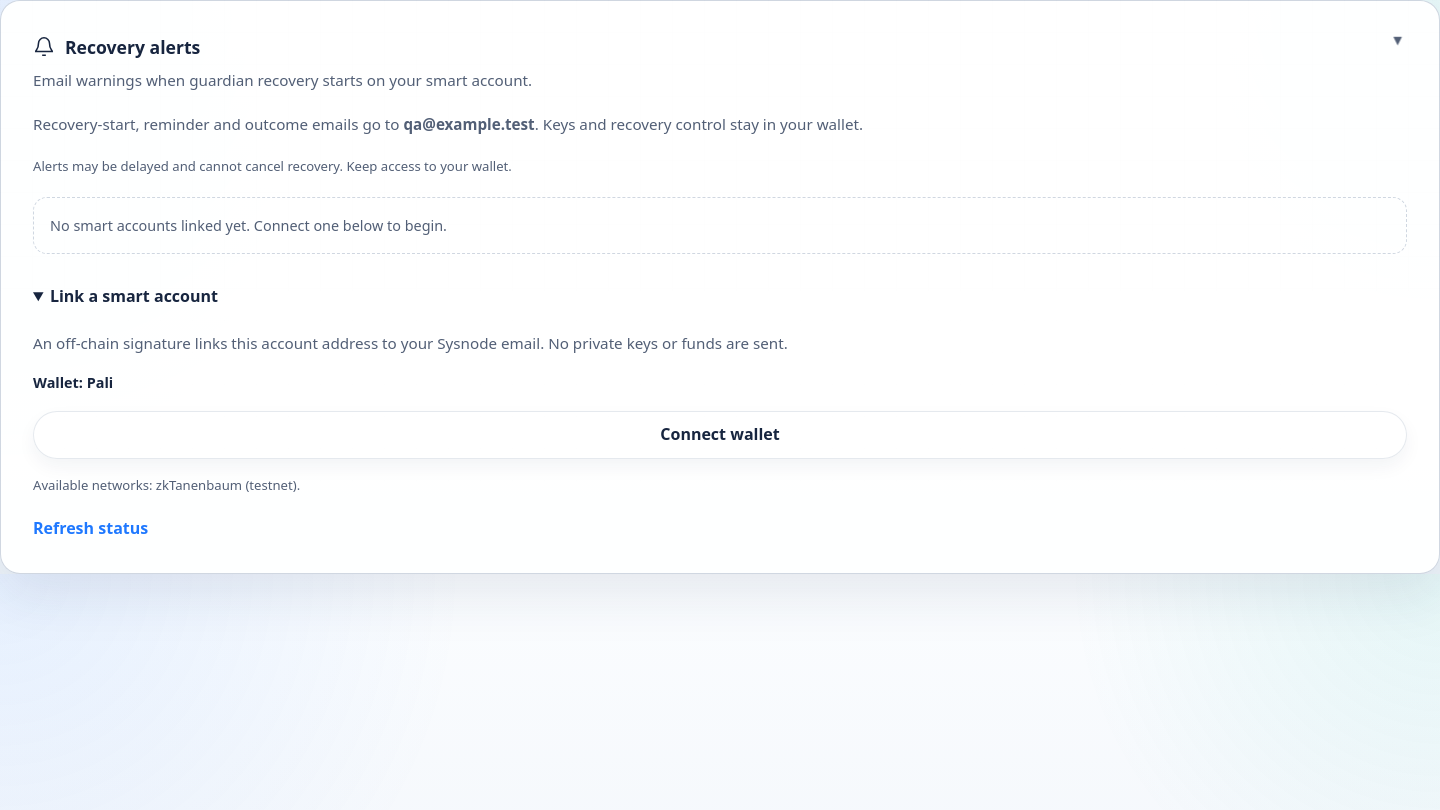
Test: normal accountsChanged on first wallet permission does not break connection
Expected: the text "No smart accounts linked yet. Connect one below to begin." is shown, [33,197,1407,254]
Click the button "Connect wallet" at [720, 434], box [33,410,1407,458]
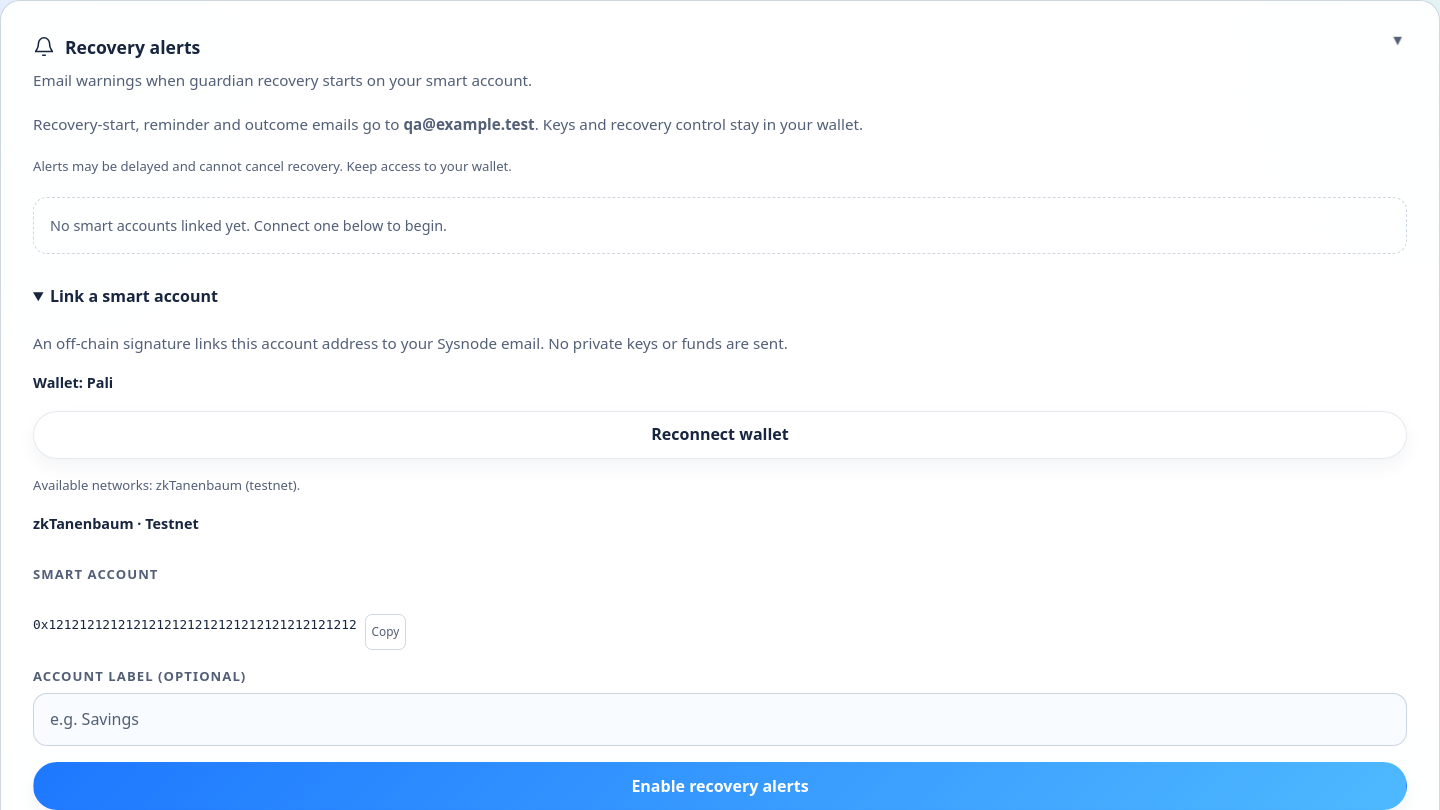
Expected: the button "Enable recovery alerts" is enabled, [33,762,1407,809]
